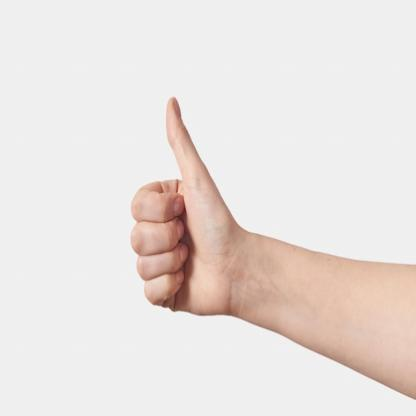thumb_up: (129, 98, 240, 316)
